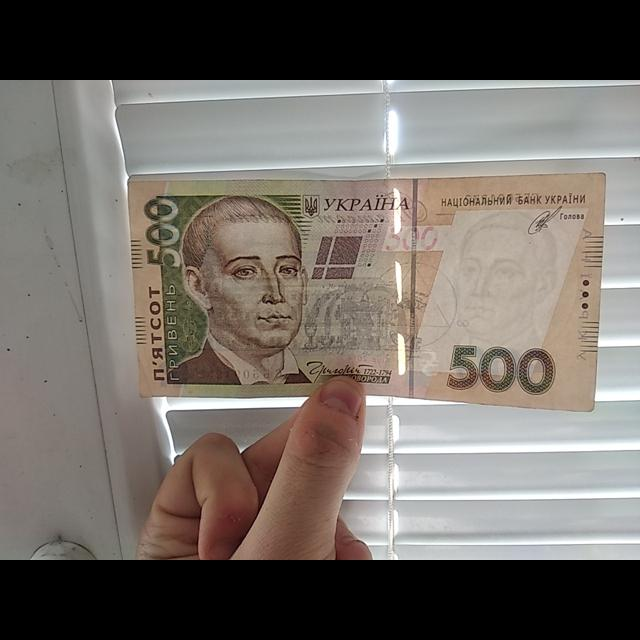500uah: (129, 169, 606, 413)
